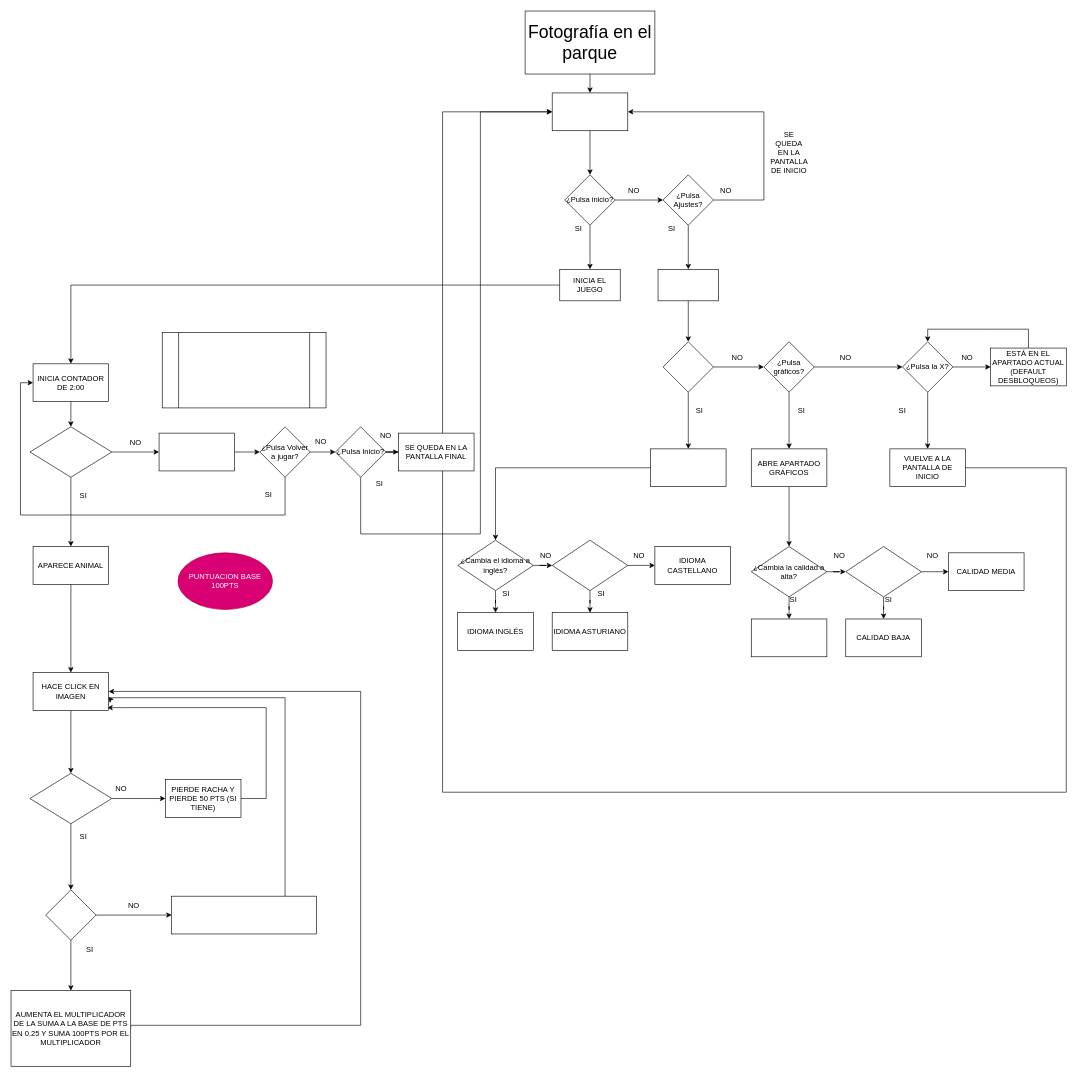
Some shapes in this 1082 by 1077 pixel diagram are drawn without their labels. The shapes that lost their labels are listed below. From the top down, each one's box as (x1, y1, x2, y2) in pixels, then its label:
(552, 92, 628, 131): PANTALLA INICIO
(657, 269, 719, 301): ABRE AJUSTES
(162, 332, 326, 408): FLUJO JUEGO
(662, 341, 713, 392): ¿Pulsa Idioma?
(29, 426, 112, 477): ¿Hay tiempo restante?
(158, 432, 235, 471): SE TERMINA EL JUEGO Y MUESTRA EL PUNTAJE FINAL
(650, 448, 726, 487): ABRE APARTADO IDIOMA
(552, 540, 628, 591): ¿Cambia el idioma a asturiano?
(845, 546, 921, 597): ¿Cambia la calidad a baja?
(751, 618, 827, 657): CALIDAD ALTA
(29, 773, 112, 824): ¿Acierta en el animal?
(45, 889, 96, 940): ¿Tiene una racha?
(171, 896, 317, 934): INICIA UNA RACHA DE PUNTOS ( BASE + (BASE*0.25) )
